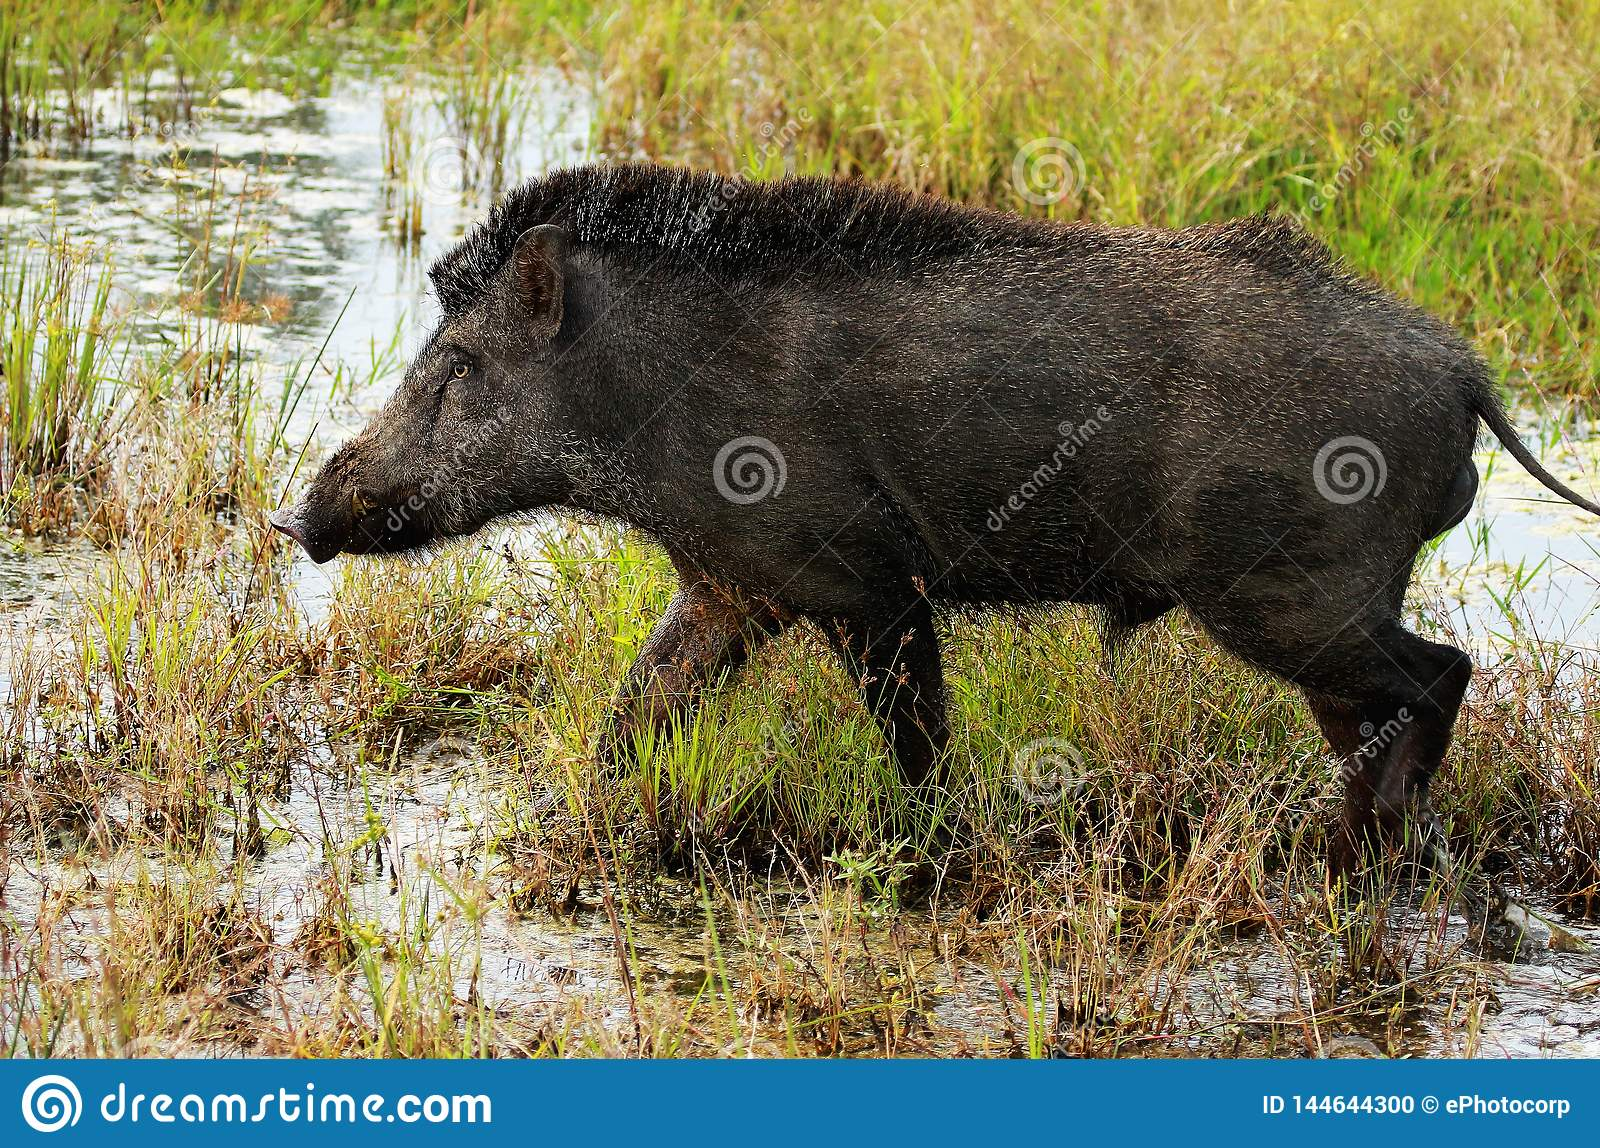wild boar: (255, 150, 1600, 949)
